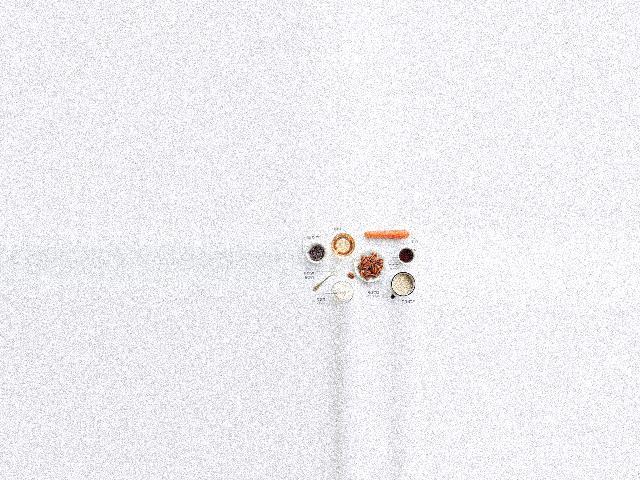carrot: (359, 227, 413, 244)
